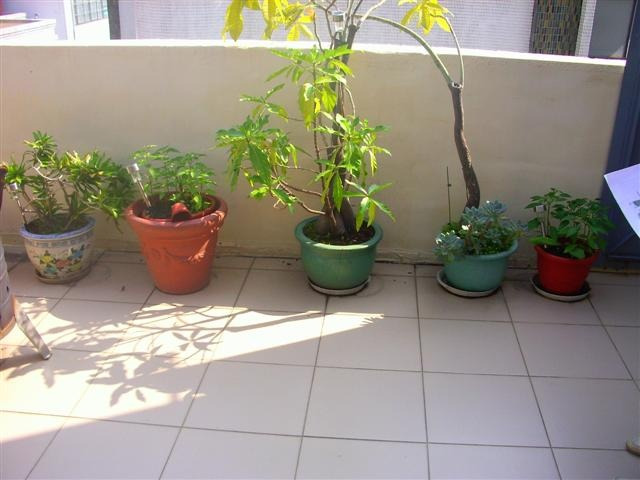plate: (430, 266, 502, 304), (527, 269, 596, 306), (303, 275, 376, 299), (29, 263, 94, 287)
